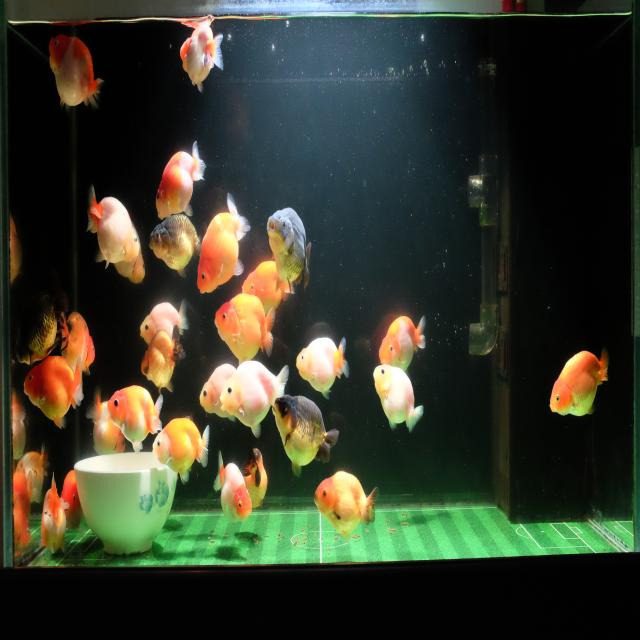Tilapia: (196, 189, 252, 298), (271, 391, 340, 479), (218, 358, 290, 439), (21, 345, 86, 431), (313, 469, 382, 543), (212, 291, 279, 367), (85, 181, 140, 272), (46, 30, 104, 116), (548, 344, 610, 423), (153, 137, 208, 223), (151, 414, 210, 488), (268, 204, 312, 302), (105, 384, 165, 454), (148, 208, 204, 281), (370, 363, 424, 437), (295, 332, 352, 400), (139, 324, 188, 398), (240, 257, 296, 317), (178, 24, 224, 97), (211, 446, 252, 526), (84, 384, 127, 458), (377, 311, 428, 372), (56, 306, 98, 378), (37, 470, 67, 563), (139, 295, 190, 349), (197, 361, 238, 425), (240, 444, 269, 512), (60, 465, 84, 534), (114, 244, 146, 284)
